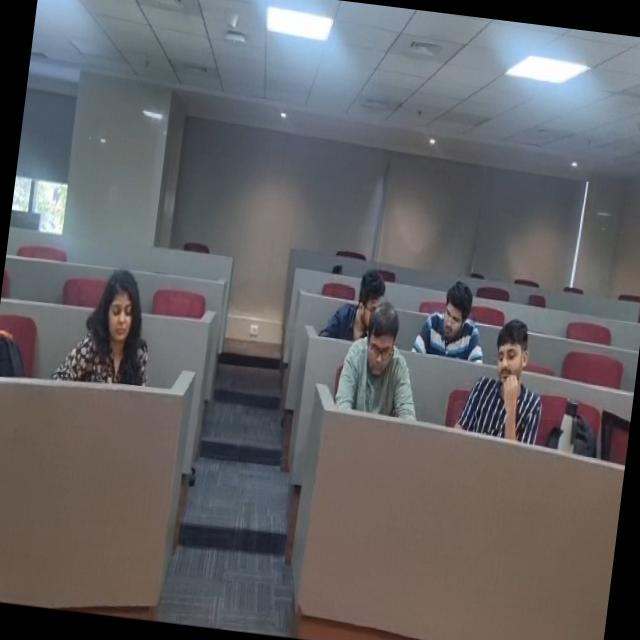cheating: (316, 242, 401, 348), (418, 257, 494, 367)
non-cheating: (64, 245, 178, 392), (324, 294, 432, 426), (465, 314, 559, 439)
